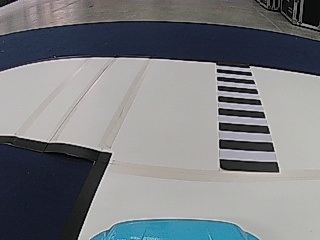CrossWalk: (215, 62, 280, 173)
